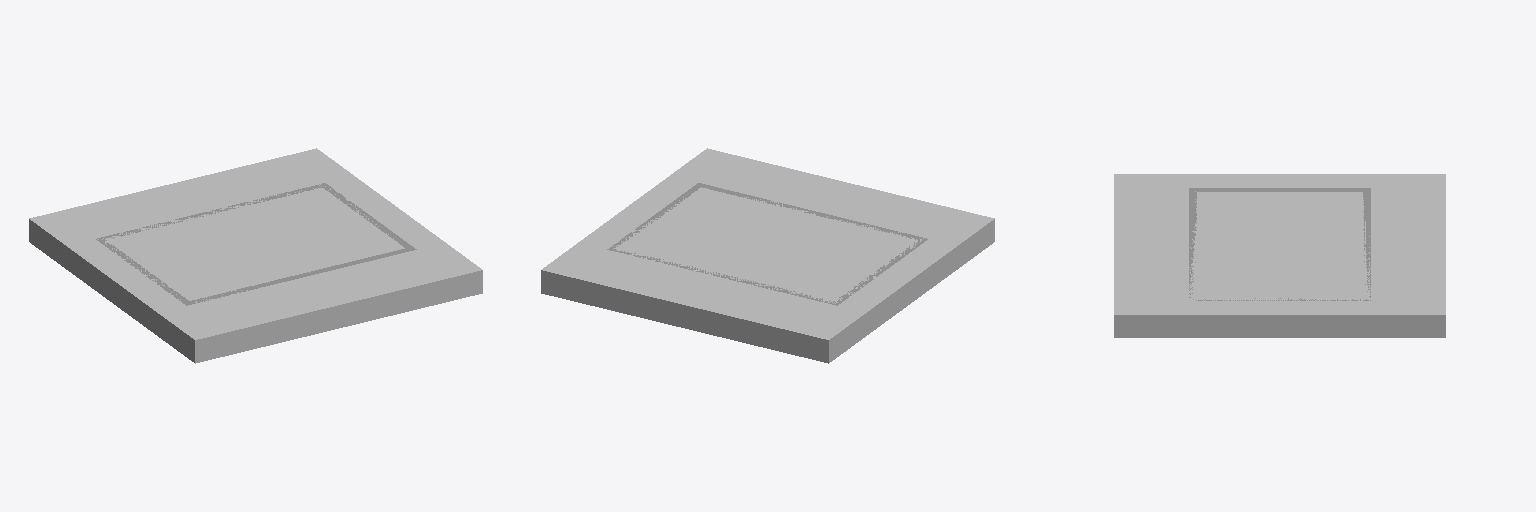
File: zom_dah_window_4x4m_c.obj
The picture shows the model from 3 angles: view 1: azimuth 30°, elevation 25°; view 2: azimuth 150°, elevation 25°; view 3: azimuth 270°, elevation 25°; orthographic projection.
Visible parts, largest first — view 1: co_culling, g_trim, c_box_002; view 2: co_culling, c_box_004, g_trim, c_box_002; view 3: co_culling, g_trim, c_box_004.
Part boxes in pixels (left/top/right/bottom): co_culling: left=29, top=148, right=482, bottom=363; g_trim: left=96, top=183, right=416, bottom=305; c_box_002: left=29, top=222, right=230, bottom=360; co_culling: left=541, top=148, right=994, bottom=363; c_box_004: left=541, top=273, right=869, bottom=360; g_trim: left=607, top=183, right=927, bottom=305; c_box_002: left=797, top=223, right=994, bottom=360; co_culling: left=1114, top=174, right=1445, bottom=337; g_trim: left=1189, top=188, right=1370, bottom=300; c_box_004: left=1363, top=317, right=1445, bottom=335.
Size of the model in its own units: 400 by 31 by 400.